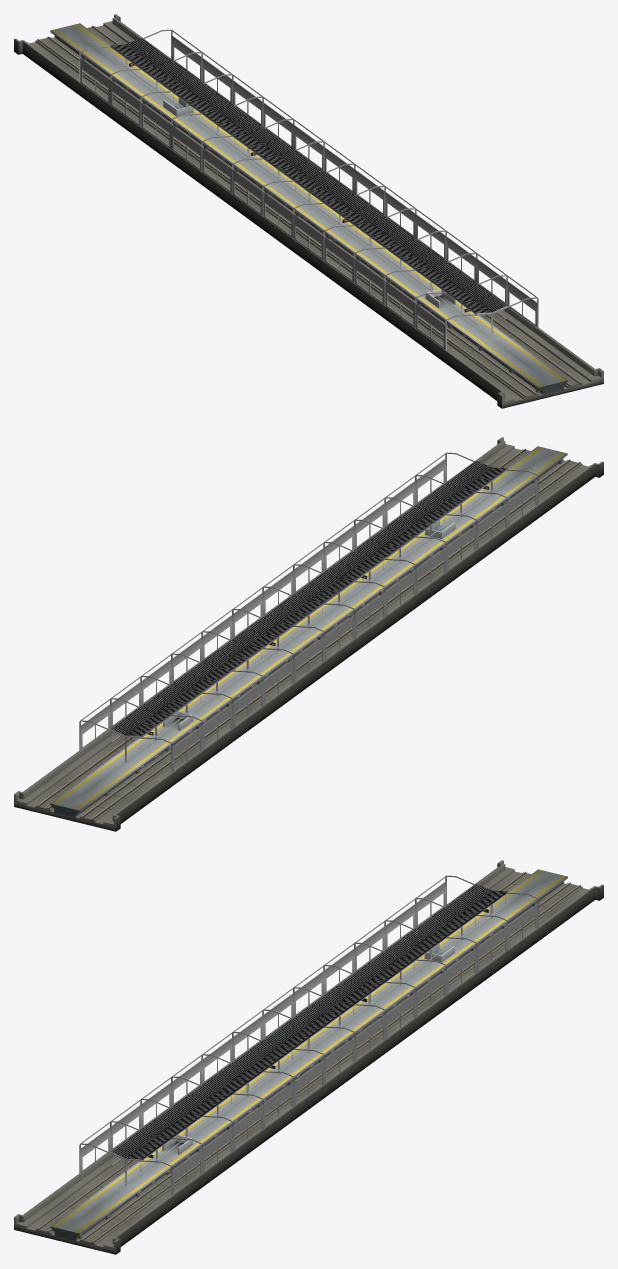
File: HANKYU_SIMA_ST.glb
3 views of the same model, one above another, from view 1: azimuth 30°, elevation 25°; view 2: azimuth 150°, elevation 25°; view 3: azimuth 330°, elevation 25° (orthographic).
Visible parts, largest first — view 1: home, bone_02-14; view 2: home, bone_02-14; view 3: home, bone_02-14.
Boxes of the visible parts, left/top/right/bottom form: home: left=14, top=14, right=603, bottom=408; bone_02-14: left=79, top=29, right=538, bottom=350; home: left=14, top=437, right=603, bottom=831; bone_02-14: left=79, top=452, right=538, bottom=773; home: left=14, top=860, right=603, bottom=1254; bone_02-14: left=79, top=875, right=538, bottom=1196.
Bounding box in the file's own units: 48.29 × 20.28 × 400.
Materials: 80 (79 with a texture image).
